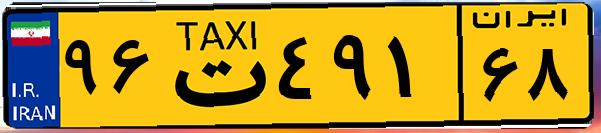1: (385, 28, 445, 110)
4: (270, 28, 330, 110)
6: (475, 38, 525, 113), (110, 28, 158, 98)
8: (525, 38, 570, 115)
9: (330, 28, 385, 110), (57, 26, 110, 100)
ت: (158, 12, 270, 120)
